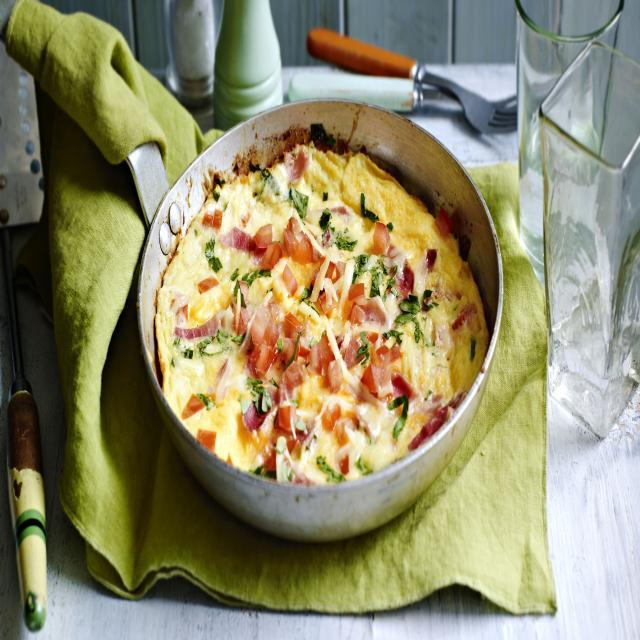telur_ayam_dadar: (155, 140, 490, 487)
